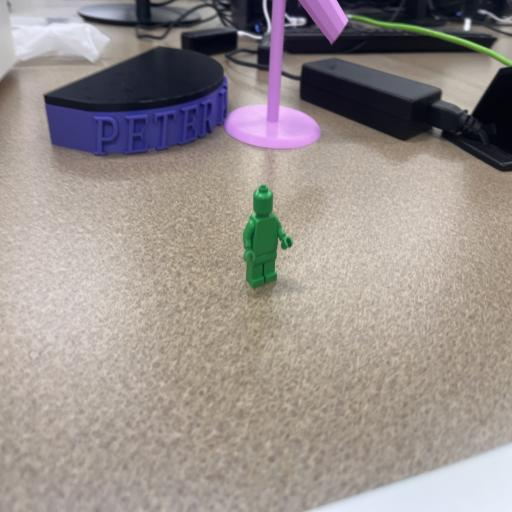Lego-Minifig: (243, 185, 293, 288)
